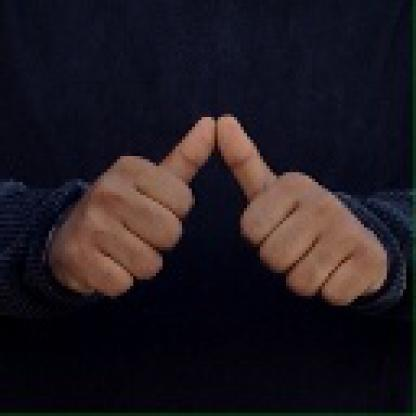A: (53, 114, 388, 320)
